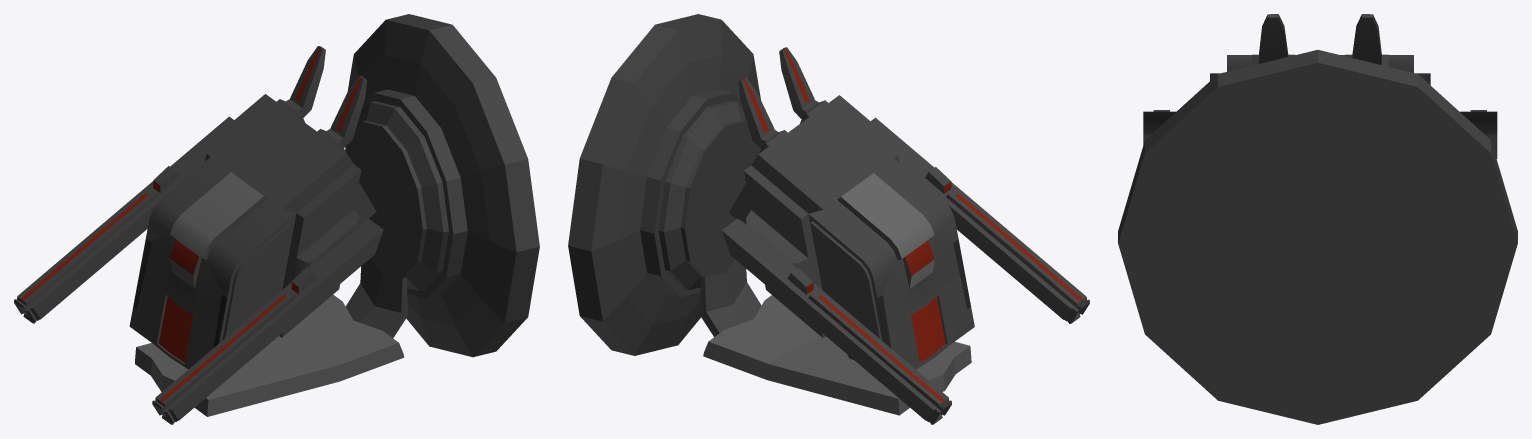
The model's file is Torreta.fbx.
3 renders of one model, left to right at view 1: azimuth 30°, elevation 25°; view 2: azimuth 150°, elevation 25°; view 3: azimuth 270°, elevation 25°, orthographic. The views are drawn at different scales.
Visible parts, largest first — view 1: Cylinder, Cube.001; view 2: Cylinder, Cube.001; view 3: Cylinder, Cube.001.
Boxes of the visible parts, x1,y1,x2,y2 form: Cylinder: (135,14,539,416); Cube.001: (14,46,383,424); Cylinder: (568,14,971,415); Cube.001: (721,47,1089,424); Cylinder: (1118,50,1517,424); Cube.001: (1143,14,1497,158).
Bounding box in the file's own units: 375 × 311 × 311.
1 material, 1 textured.
